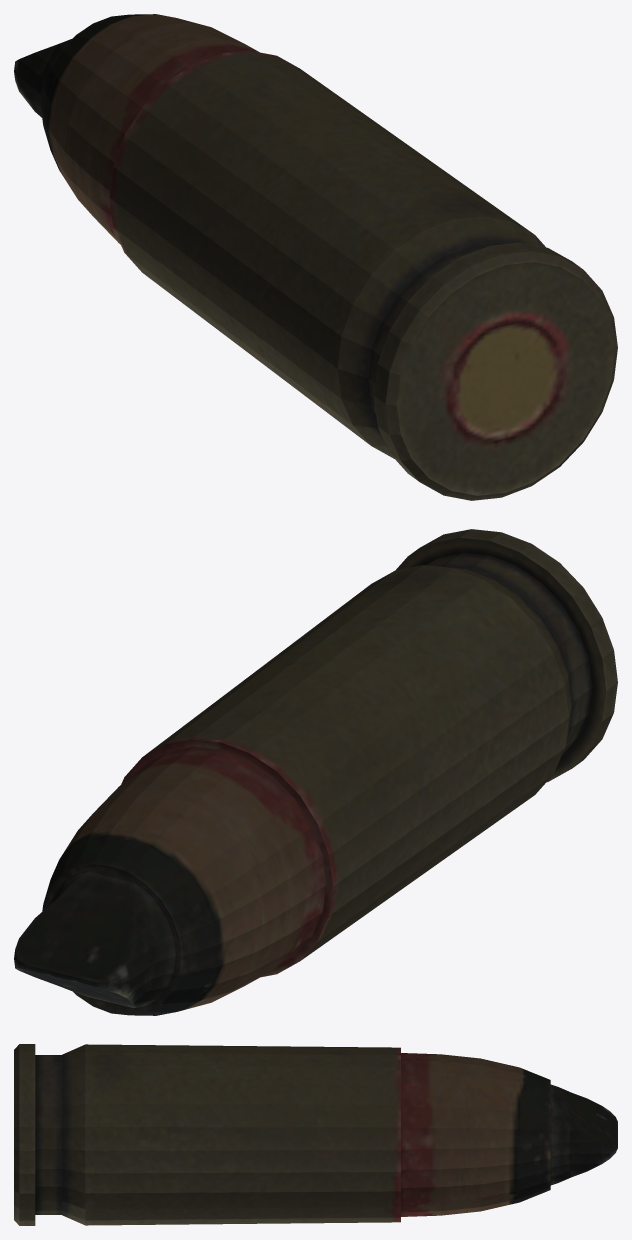
3 renders of one model, top to bottom at view 1: azimuth 30°, elevation 25°; view 2: azimuth 150°, elevation 25°; view 3: azimuth 270°, elevation 25°, orthographic. The views are drawn at different scales.
Parts seen in each view (by area): view 1: TW_6576f4708ca9c4381d16cd9d_PZ_Import; view 2: TW_6576f4708ca9c4381d16cd9d_PZ_Import; view 3: TW_6576f4708ca9c4381d16cd9d_PZ_Import.
Boxes of the visible parts, x1=… form: TW_6576f4708ca9c4381d16cd9d_PZ_Import: x1=14, y1=14, x2=617, y2=500; TW_6576f4708ca9c4381d16cd9d_PZ_Import: x1=14, y1=529, x2=617, y2=1015; TW_6576f4708ca9c4381d16cd9d_PZ_Import: x1=14, y1=1044, x2=617, y2=1225.
Size of the model in its own units: 0.00576 by 0.0191 by 0.00576.
1 material, 1 textured.
